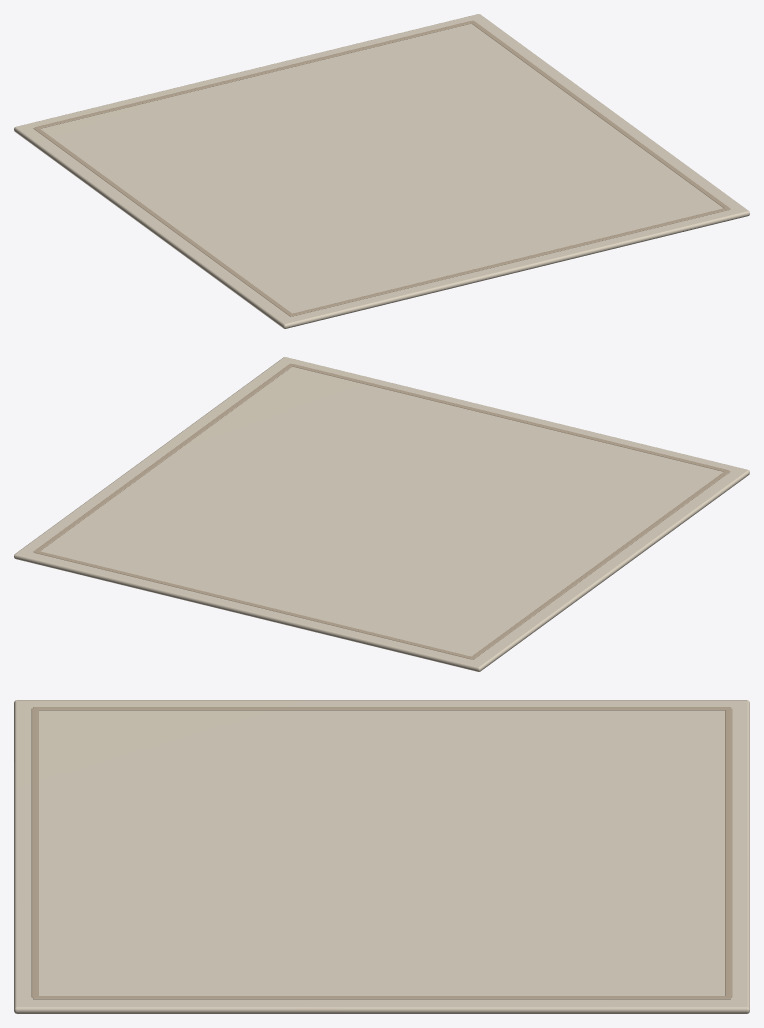
Rendered from soft-rug.glb.
3 renders of one model, top to bottom at view 1: azimuth 30°, elevation 25°; view 2: azimuth 150°, elevation 25°; view 3: azimuth 270°, elevation 25°, orthographic. The views are drawn at different scales.
Visible parts, largest first — view 1: Soft pile rug; view 2: Soft pile rug; view 3: Soft pile rug.
Part boxes in pixels (x1,y1,x2,y2): Soft pile rug: (14, 14, 749, 328); Soft pile rug: (14, 357, 749, 671); Soft pile rug: (14, 700, 749, 1013).
Size of the model in its own units: 1.54 by 0.018 by 1.55.
